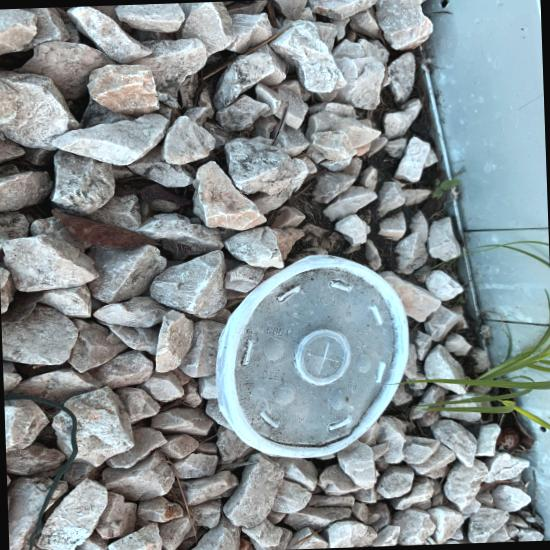Cigarette: (134, 87, 150, 97), (68, 169, 83, 177), (270, 177, 276, 188), (134, 87, 147, 91), (145, 82, 158, 86), (283, 172, 288, 182), (256, 0, 260, 3)
Glass bottle: (91, 76, 120, 148)
